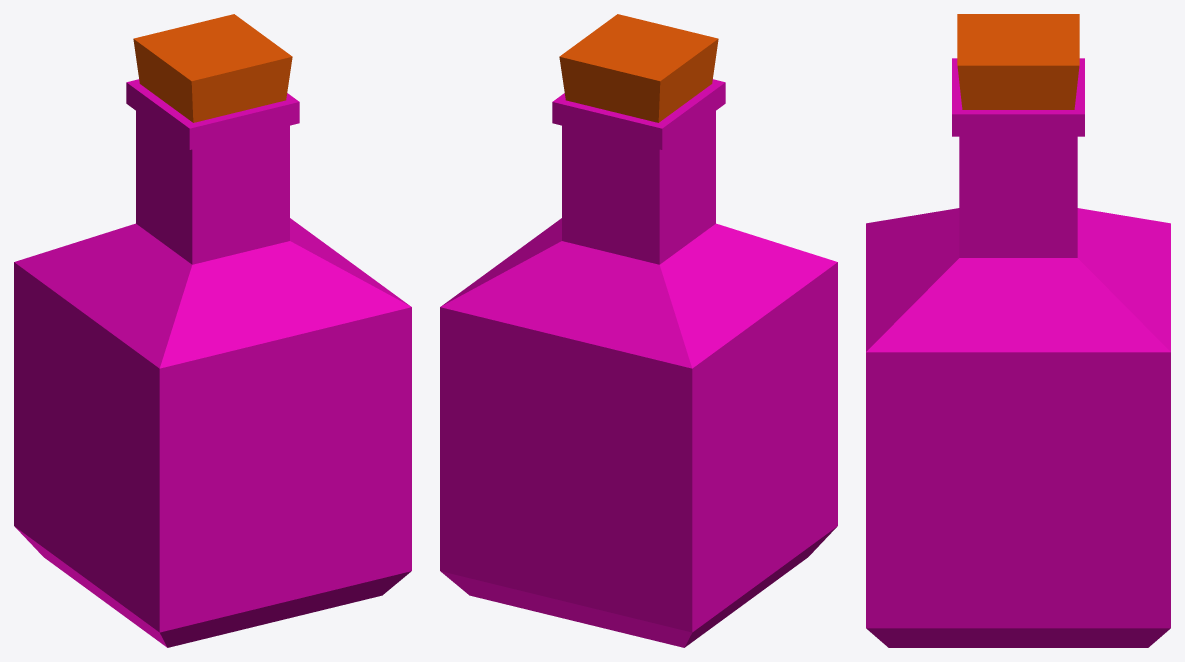
Rendered from potion2.fbx.
3 views of the same model, side by side, from view 1: azimuth 30°, elevation 25°; view 2: azimuth 150°, elevation 25°; view 3: azimuth 270°, elevation 25° (orthographic). The views are drawn at different scales.
Parts seen in each view (by area): view 1: Potion; view 2: Potion; view 3: Potion.
Part boxes in pixels (x1,y1,x2,y2): Potion: (14,14,411,647); Potion: (440,14,837,647); Potion: (866,14,1170,647).
Size of the model in its own units: 200 by 401 by 200.
